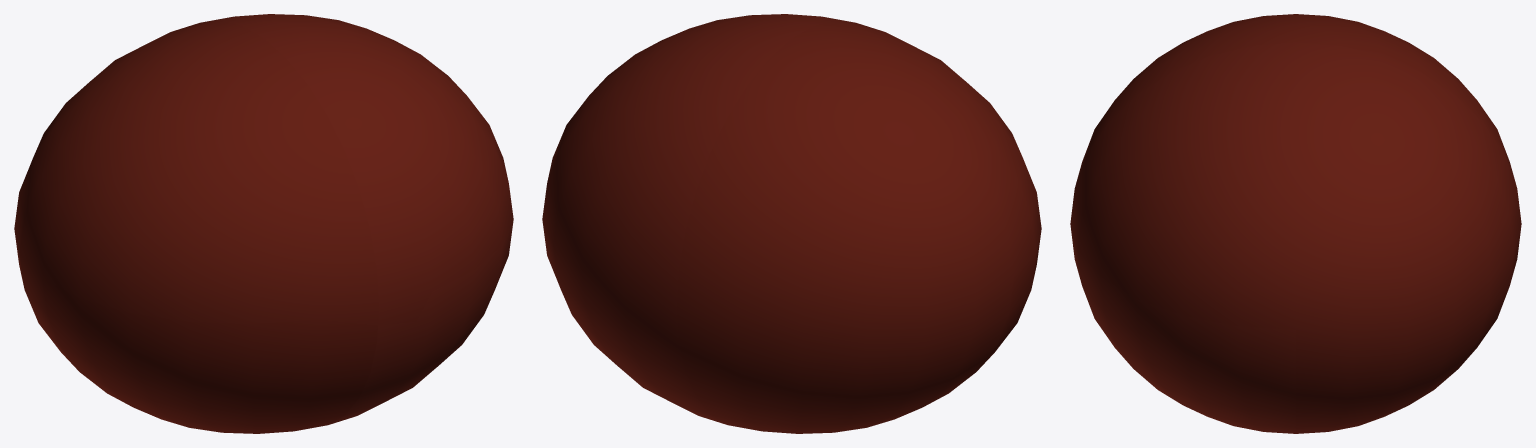
File: seed.mobile.glb
3 views of the same model, side by side, from view 1: azimuth 30°, elevation 25°; view 2: azimuth 150°, elevation 25°; view 3: azimuth 270°, elevation 25° (orthographic). The views are drawn at different scales.
Visible parts, largest first — view 1: Seed; view 2: Seed; view 3: Seed.
Boxes of the visible parts, x1,y1,x2,y2 form: Seed: (14, 14, 513, 433); Seed: (542, 14, 1041, 433); Seed: (1070, 14, 1521, 433).
Size of the model in its own units: 0.022 by 0.0176 by 0.0198.
1 material, 1 textured.
